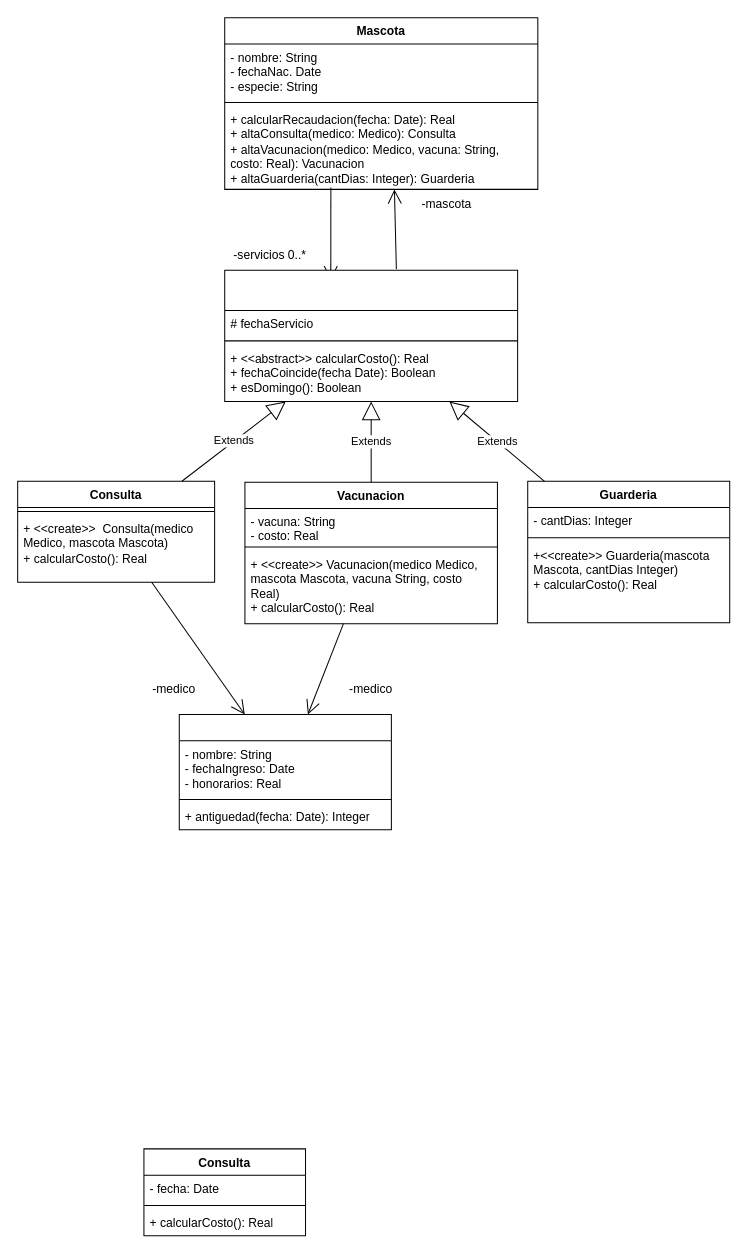
The diagram is 747 pixels wide and 1256 high, and some of its shapes have lost their labels. The shapes that lost their labels are listed below. From the top down, each one's box as (x1, y1, x2, y2) in pixels, then its label:
(224, 269, 518, 401): <<Abstract>> Servicio
(178, 714, 391, 830): Medico
